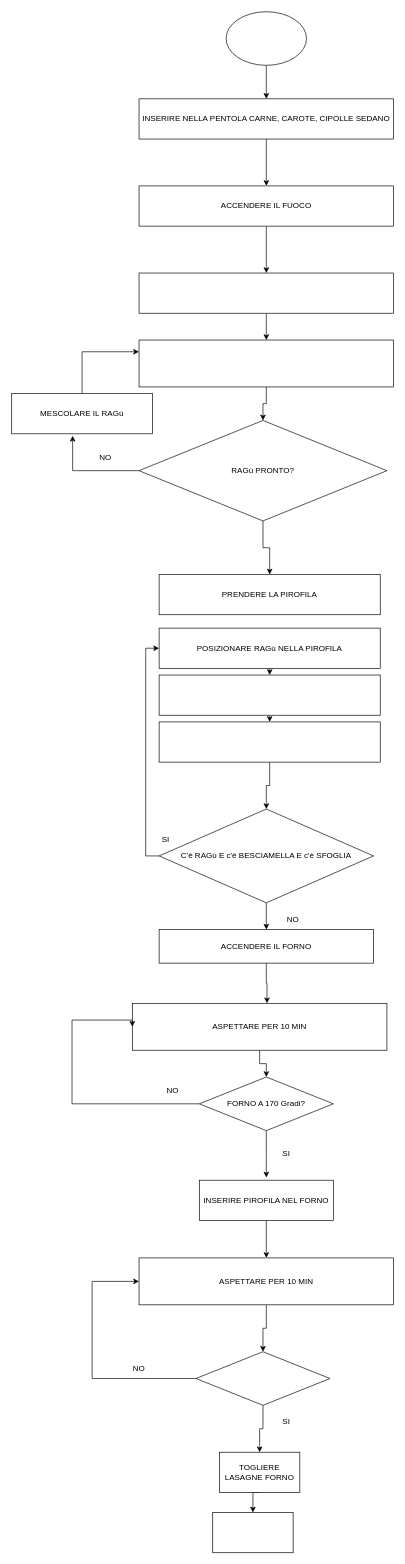
Some shapes in this 405 by 1564 pixel diagram are drawn without their labels. The centre of each missing label's shape, as x and y in pixels:
"BUON APPETITO" belongs at pixel 252 1532.
"INGREDIENTI" belongs at pixel 266 38.
"LASAGNE COTTE?" belongs at pixel 262 1378.
"LASCIAR CUCINARE PER 10 MIN" belongs at pixel 266 363.
"METTERE LA PENTOLA SUL FUOCO" belongs at pixel 266 292.
"POSIZIONARE BESCIAMELLA NELLA PIROFILA" belongs at pixel 269 694.
"POSIZIONARE PASTA NELLA PIROFILA" belongs at pixel 269 741.
